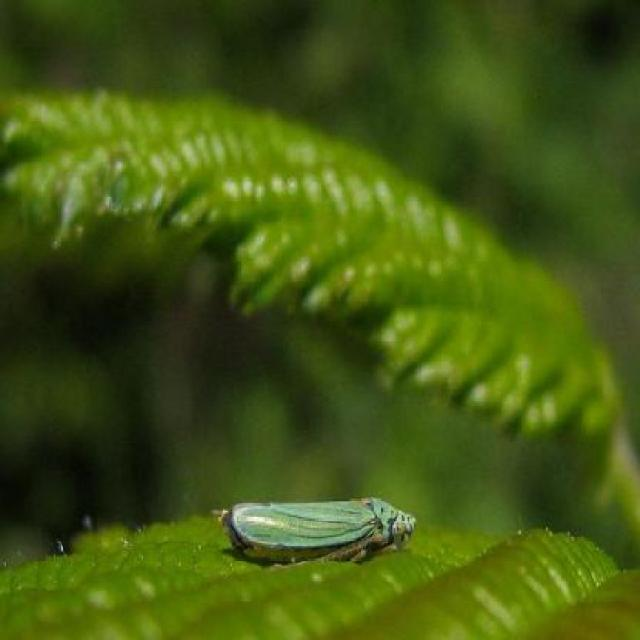green-leafhopper: (220, 494, 418, 566)
